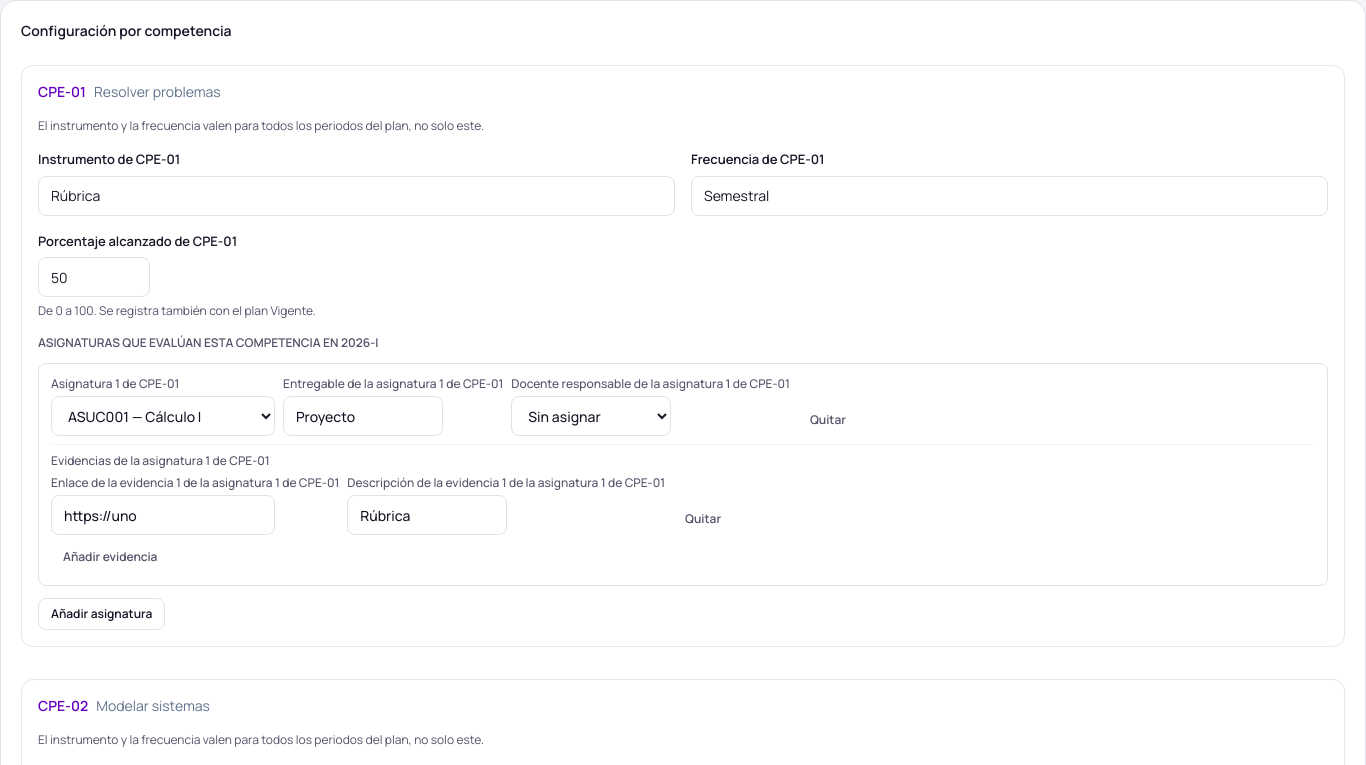
guardar el periodo › envía solo lo que cambió, y a la competencia a la que le cambió
The image size is (1366, 765).
Replace the text in the field labelled "Instrumento de CPE-01" with "Lista de cotejo" at (356, 196), box x1=38 y1=176 x2=675 y2=216
(page scrolled)
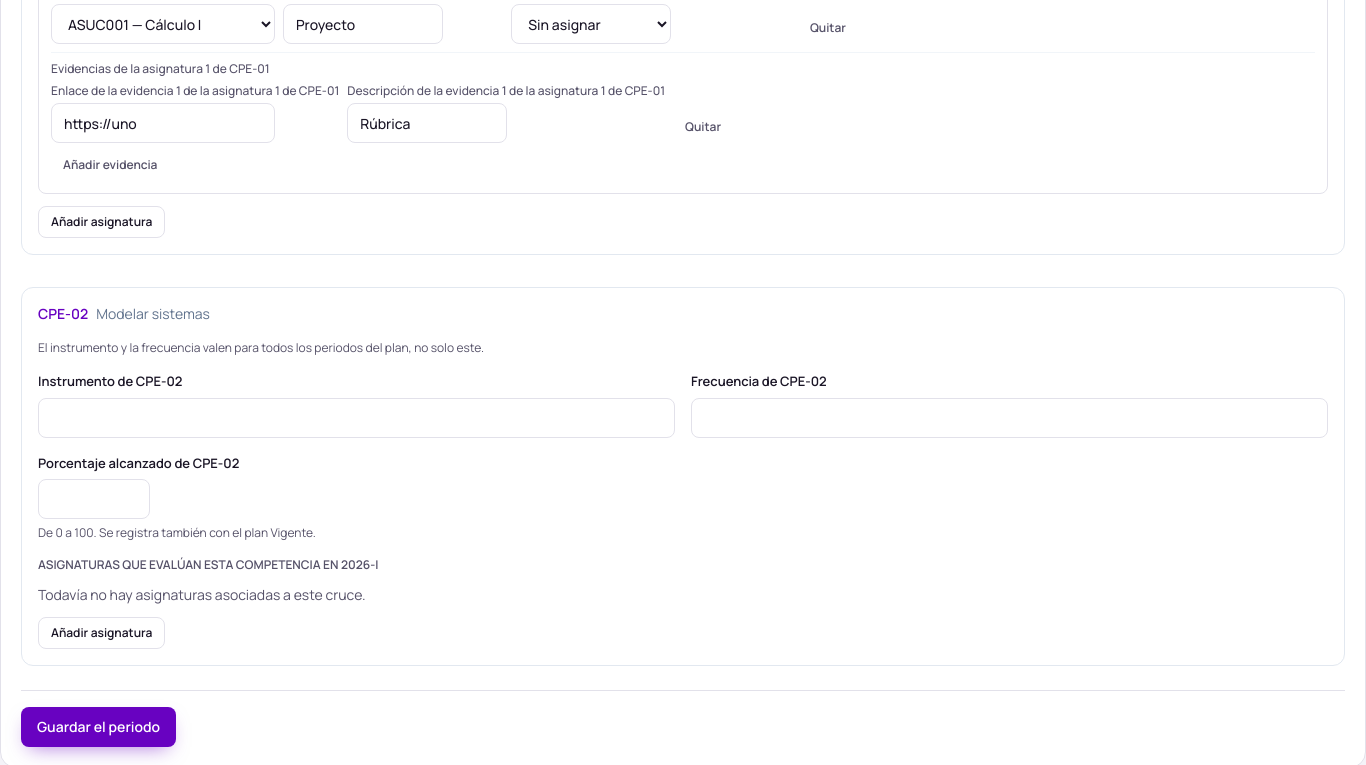
Type "90" into the number field labelled "Porcentaje alcanzado de CPE-02" at (94, 499), box x1=38 y1=479 x2=150 y2=519
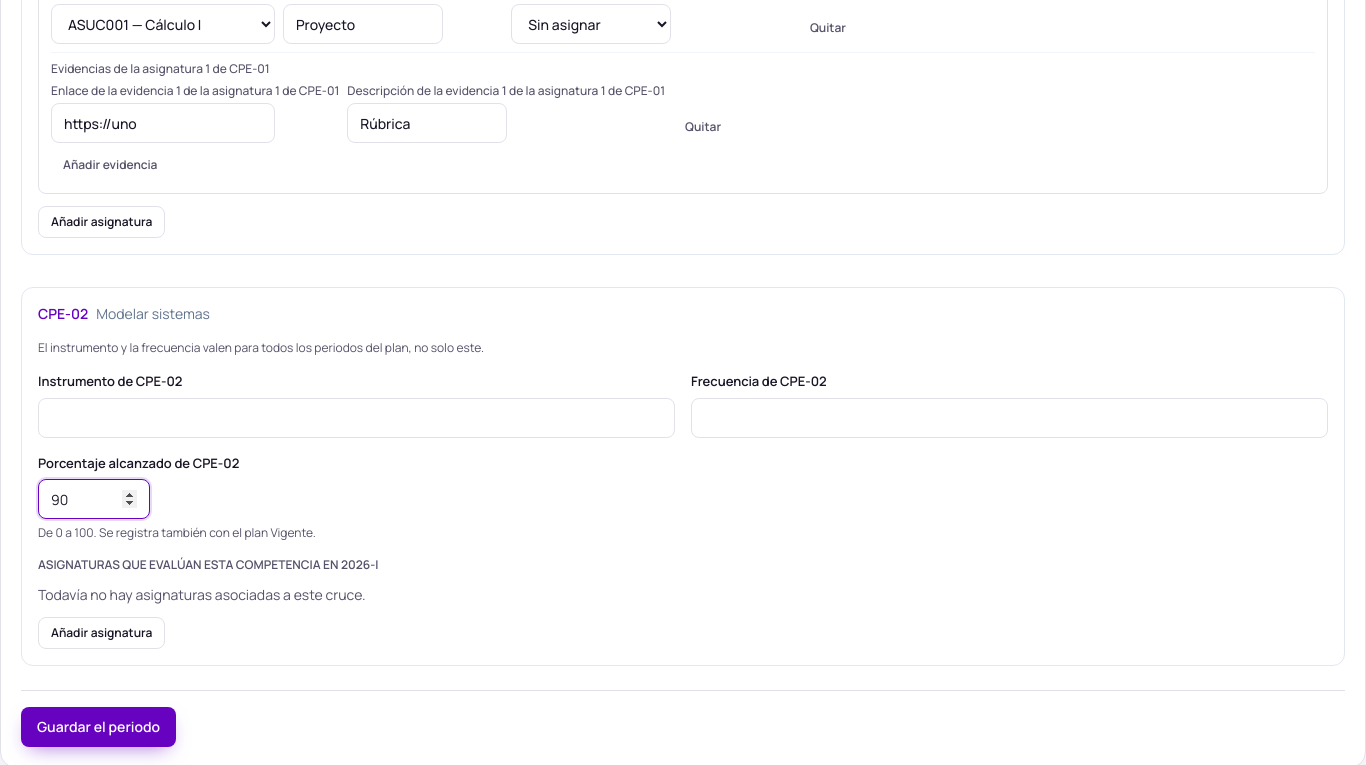
Click the button "Guardar el periodo" at (99, 727), box x1=21 y1=707 x2=176 y2=747
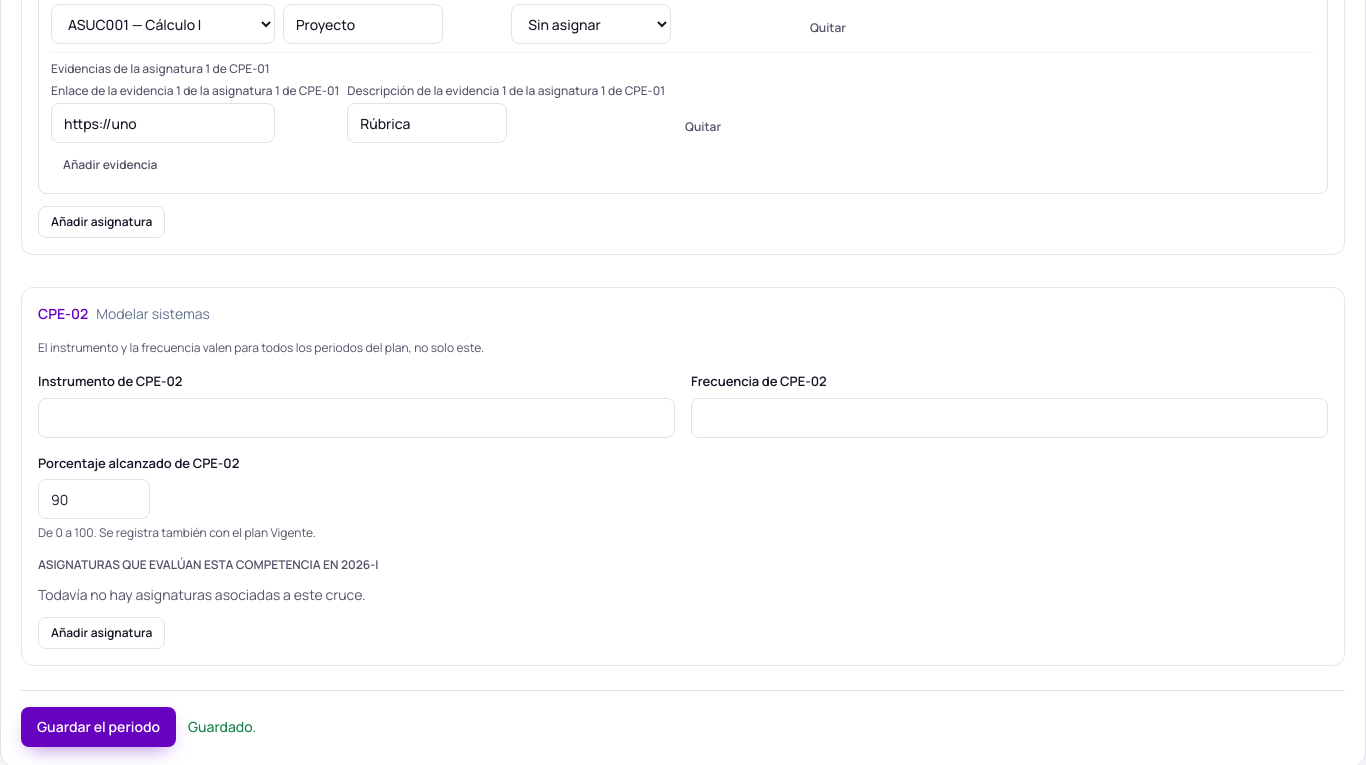
Result: the text "Guardado." is shown at x1=188 y1=717 x2=256 y2=737
